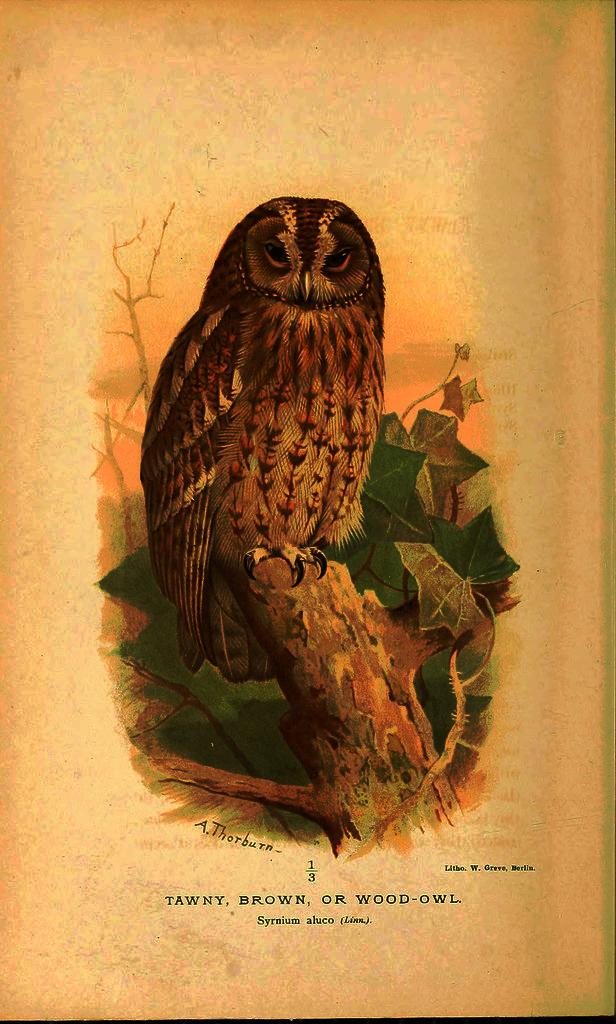Owl: (126, 190, 390, 696)
